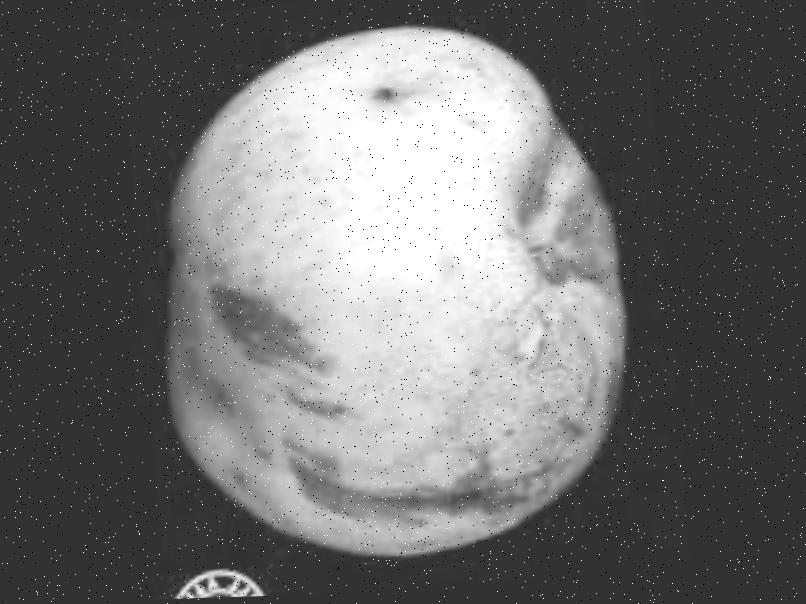BLOTCH: (121, 0, 667, 600)
